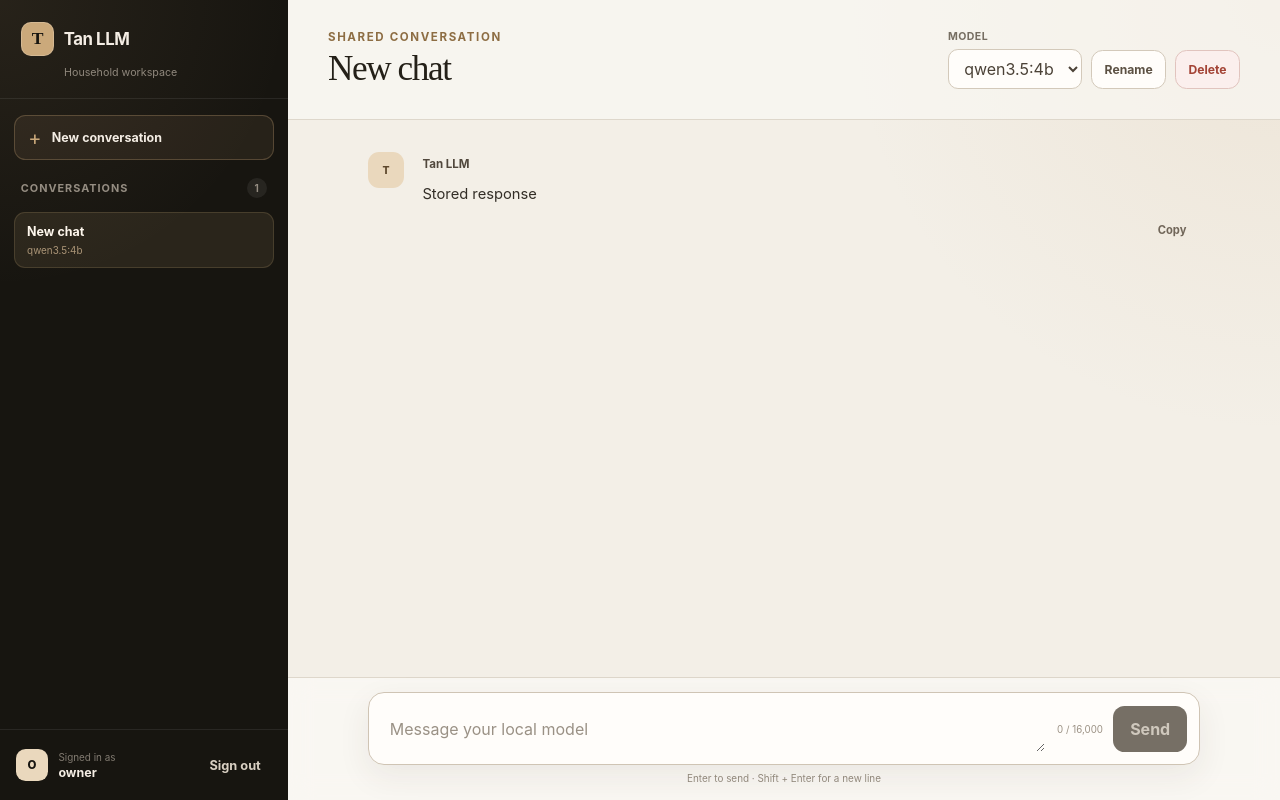
Test: shared conversation management › loads stored messages and streams a new response
Expected: the text "Stored response" is shown, [422, 185, 537, 203]
Type "Plan dinner" into the text box labelled "Message" at (713, 729), box [381, 705, 1045, 752]
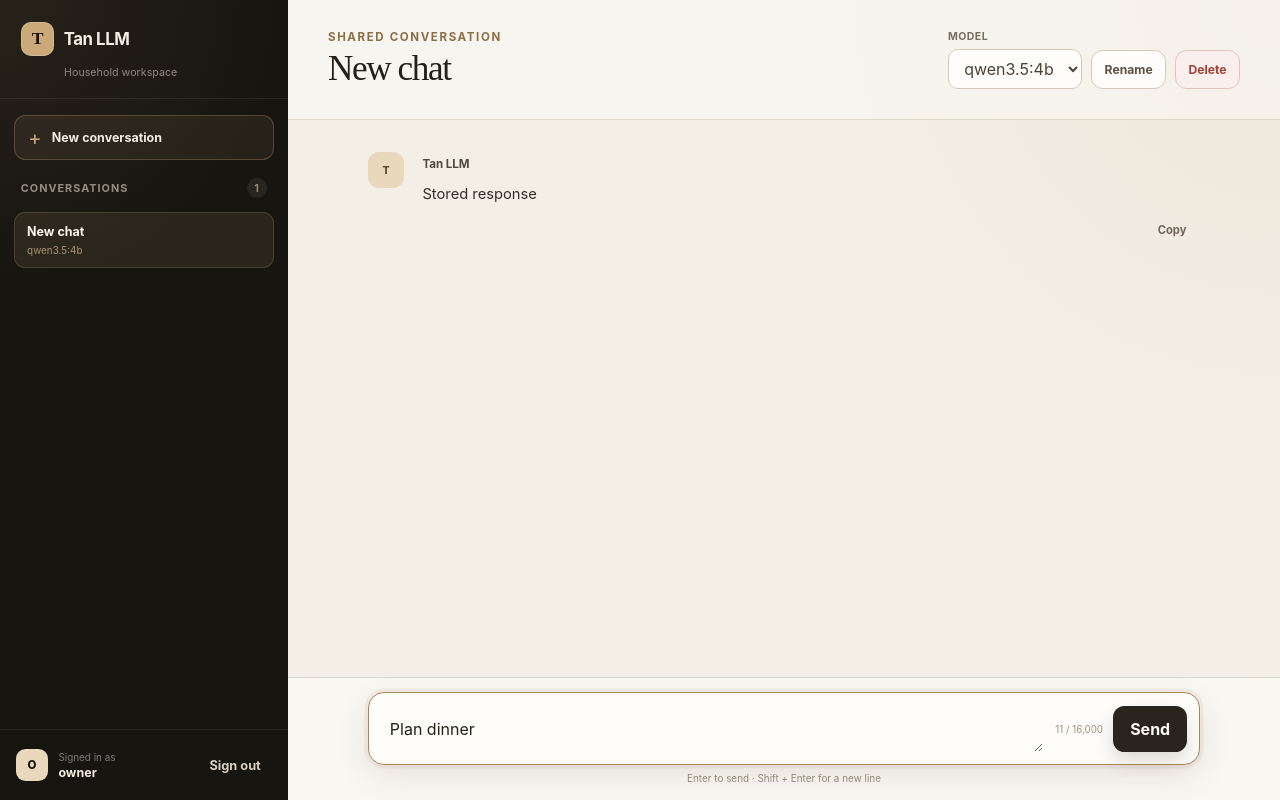
Click the button "Send" at (1150, 729), box [1113, 706, 1187, 752]
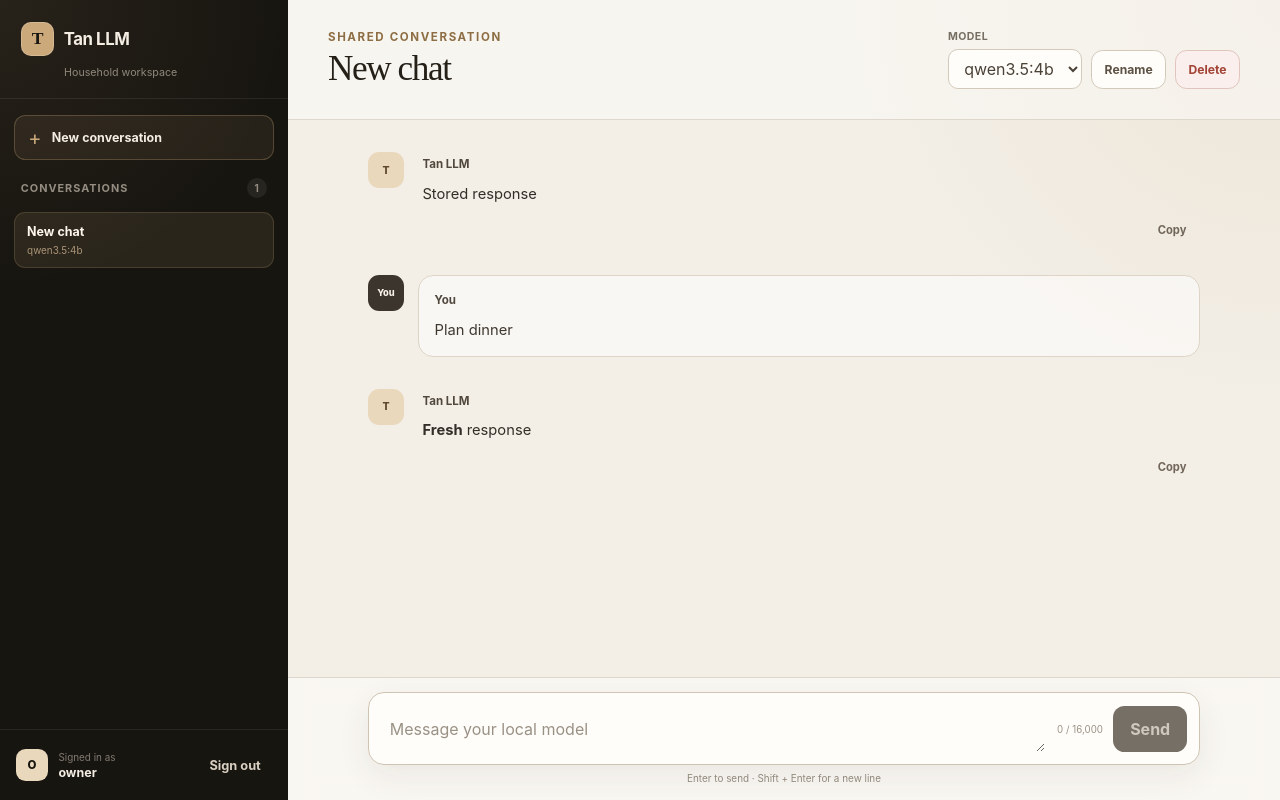
Now the text "Fresh" is shown, box [422, 422, 463, 440]
Now the text box labelled "Message" is empty, box [381, 705, 1045, 752]
